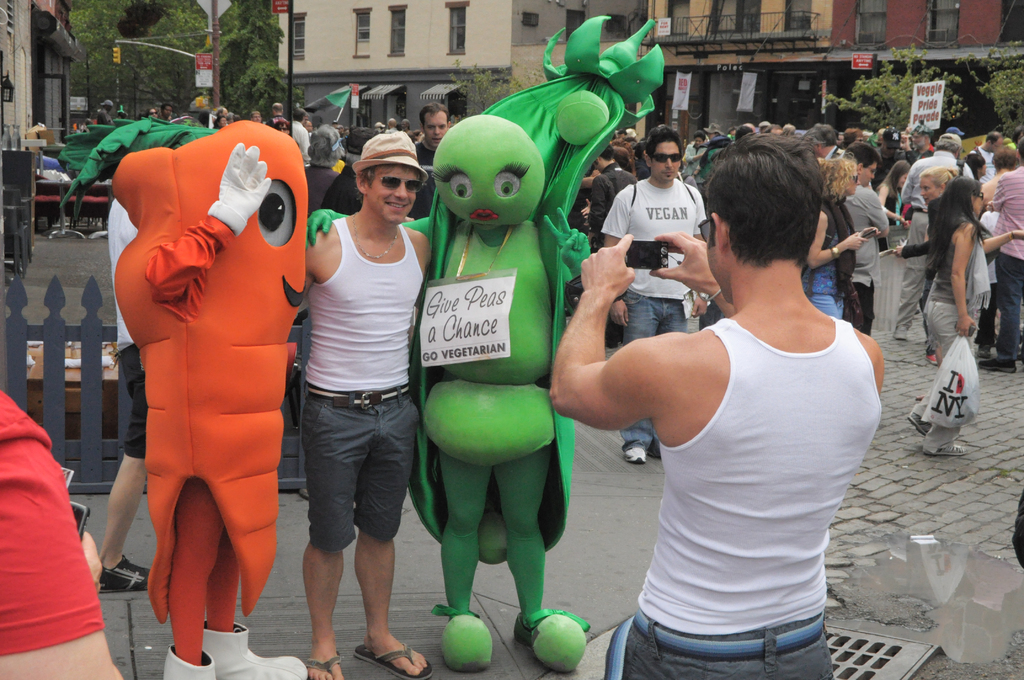Person: (2, 102, 1023, 679)
